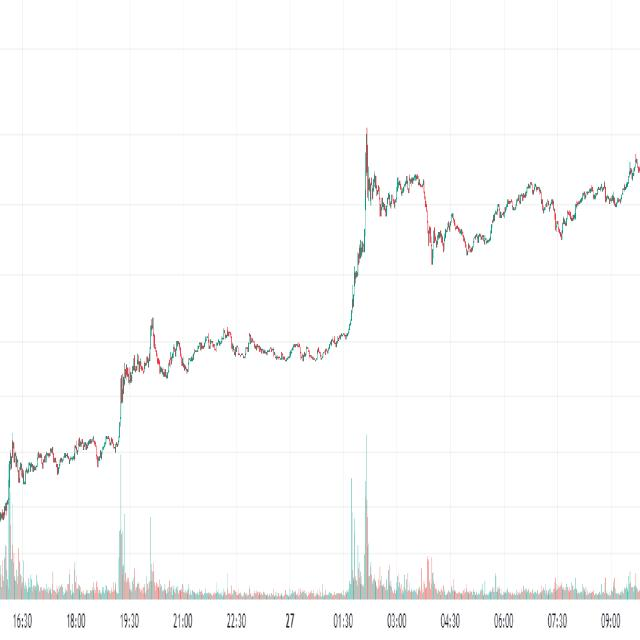Channel-up: (487, 169, 545, 232)
Falling-Wedge: (335, 117, 493, 260)
Triangle: (378, 187, 405, 226)
